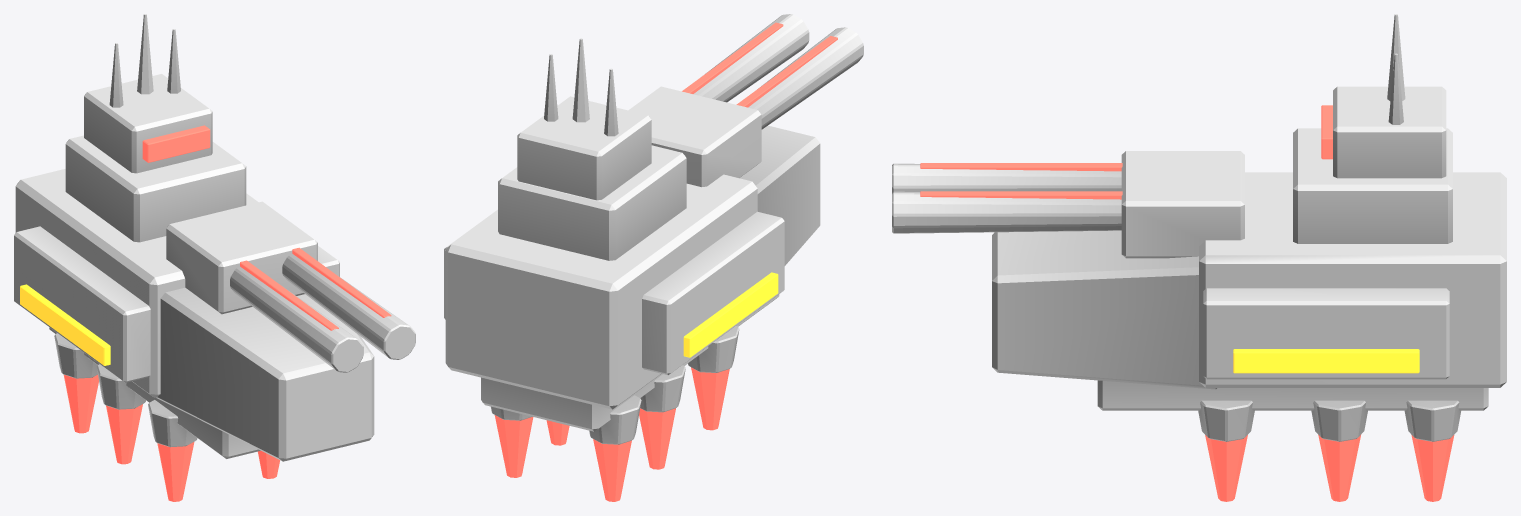
Rendered from e5_dread_gunship.glb.
The picture shows the model from 3 angles, left to right: view 1: azimuth 30°, elevation 25°; view 2: azimuth 150°, elevation 25°; view 3: azimuth 270°, elevation 25°; orthographic projection. The views are drawn at different scales.
Parts seen in each view (by area): view 1: BowKeel, BridgeTier1, MainHull, FlankArmor_-1, BowTurretBox, BridgeTier2, BowCannon_-0.2, BowCannon_0.2, FlankGlow_-1, LowerKeel, BridgeWindow, Core_Pulse_Keel_-1_0.36 (+11 smaller); view 2: MainHull, BridgeTier1, FlankArmor_-1, BridgeTier2, BowTurretBox, BowKeel, BowCannon_-0.2, LowerKeel, BowCannon_0.2, FlankGlow_-1, Core_Pulse_Keel_-1_0.92, Core_Pulse_Keel_1_0.92 (+10 smaller); view 3: MainHull, BowKeel, FlankArmor_1, BridgeTier1, BowTurretBox, BridgeTier2, BowCannon_0.2, LowerKeel, BowCannon_-0.2, FlankGlow_1, KeelThruster_1_0.92, KeelThruster_1_0.36 (+8 smaller).
Boxes of the visible parts, bbox=[...] form: BowKeel: bbox=[156, 287, 374, 461]; BridgeTier1: bbox=[65, 135, 246, 242]; MainHull: bbox=[15, 169, 257, 397]; FlankArmor_-1: bbox=[14, 226, 150, 382]; BowTurretBox: bbox=[166, 201, 317, 314]; BridgeTier2: bbox=[84, 74, 212, 173]; BowCannon_-0.2: bbox=[230, 266, 363, 372]; BowCannon_0.2: bbox=[282, 253, 415, 359]; FlankGlow_-1: bbox=[20, 284, 110, 365]; LowerKeel: bbox=[49, 327, 260, 458]; BridgeWindow: bbox=[142, 125, 210, 162]; Core_Pulse_Keel_-1_0.36: bbox=[106, 404, 142, 464]; MainHull: bbox=[445, 174, 757, 409]; BridgeTier1: bbox=[498, 145, 686, 260]; FlankArmor_-1: bbox=[642, 211, 784, 375]; BridgeTier2: bbox=[517, 96, 651, 200]; BowTurretBox: bbox=[628, 86, 761, 187]; BowKeel: bbox=[739, 125, 820, 265]; BowCannon_-0.2: bbox=[748, 27, 863, 129]; LowerKeel: bbox=[481, 294, 779, 431]; BowCannon_0.2: bbox=[693, 14, 809, 102]; FlankGlow_-1: bbox=[683, 272, 778, 357]; Core_Pulse_Keel_-1_0.92: bbox=[593, 439, 631, 501]; Core_Pulse_Keel_1_0.92: bbox=[494, 415, 533, 477]; MainHull: bbox=[1199, 172, 1506, 387]; BowKeel: bbox=[992, 230, 1216, 389]; FlankArmor_1: bbox=[1203, 288, 1449, 379]; BridgeTier1: bbox=[1293, 128, 1452, 243]; BowTurretBox: bbox=[1121, 151, 1244, 258]; BridgeTier2: bbox=[1333, 86, 1446, 178]; BowCannon_0.2: bbox=[892, 191, 1121, 233]; LowerKeel: bbox=[1097, 380, 1488, 410]; BowCannon_-0.2: bbox=[892, 163, 1121, 192]; FlankGlow_1: bbox=[1233, 349, 1419, 373]; KeelThruster_1_0.92: bbox=[1404, 400, 1460, 441]; KeelThruster_1_0.36: bbox=[1311, 400, 1367, 441].
Bounding box in the file's own units: 1.57 × 2.72 × 3.3.
